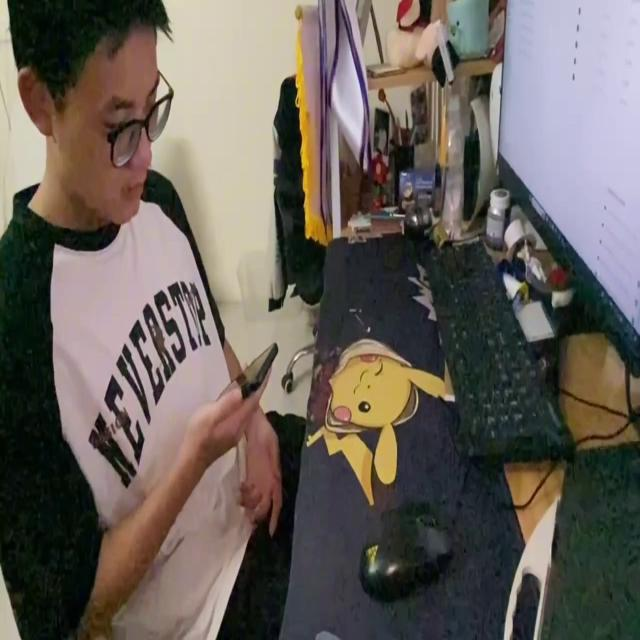laptop: (498, 4, 640, 382)
phone: (216, 330, 279, 405)
student: (3, 2, 296, 640)
